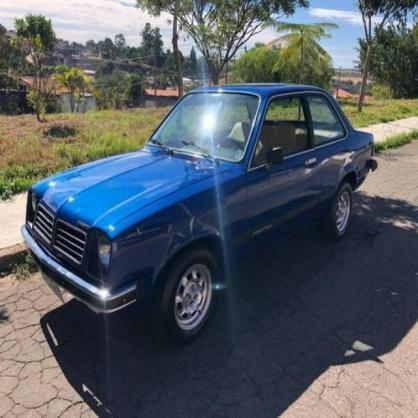car: (27, 82, 376, 340)
